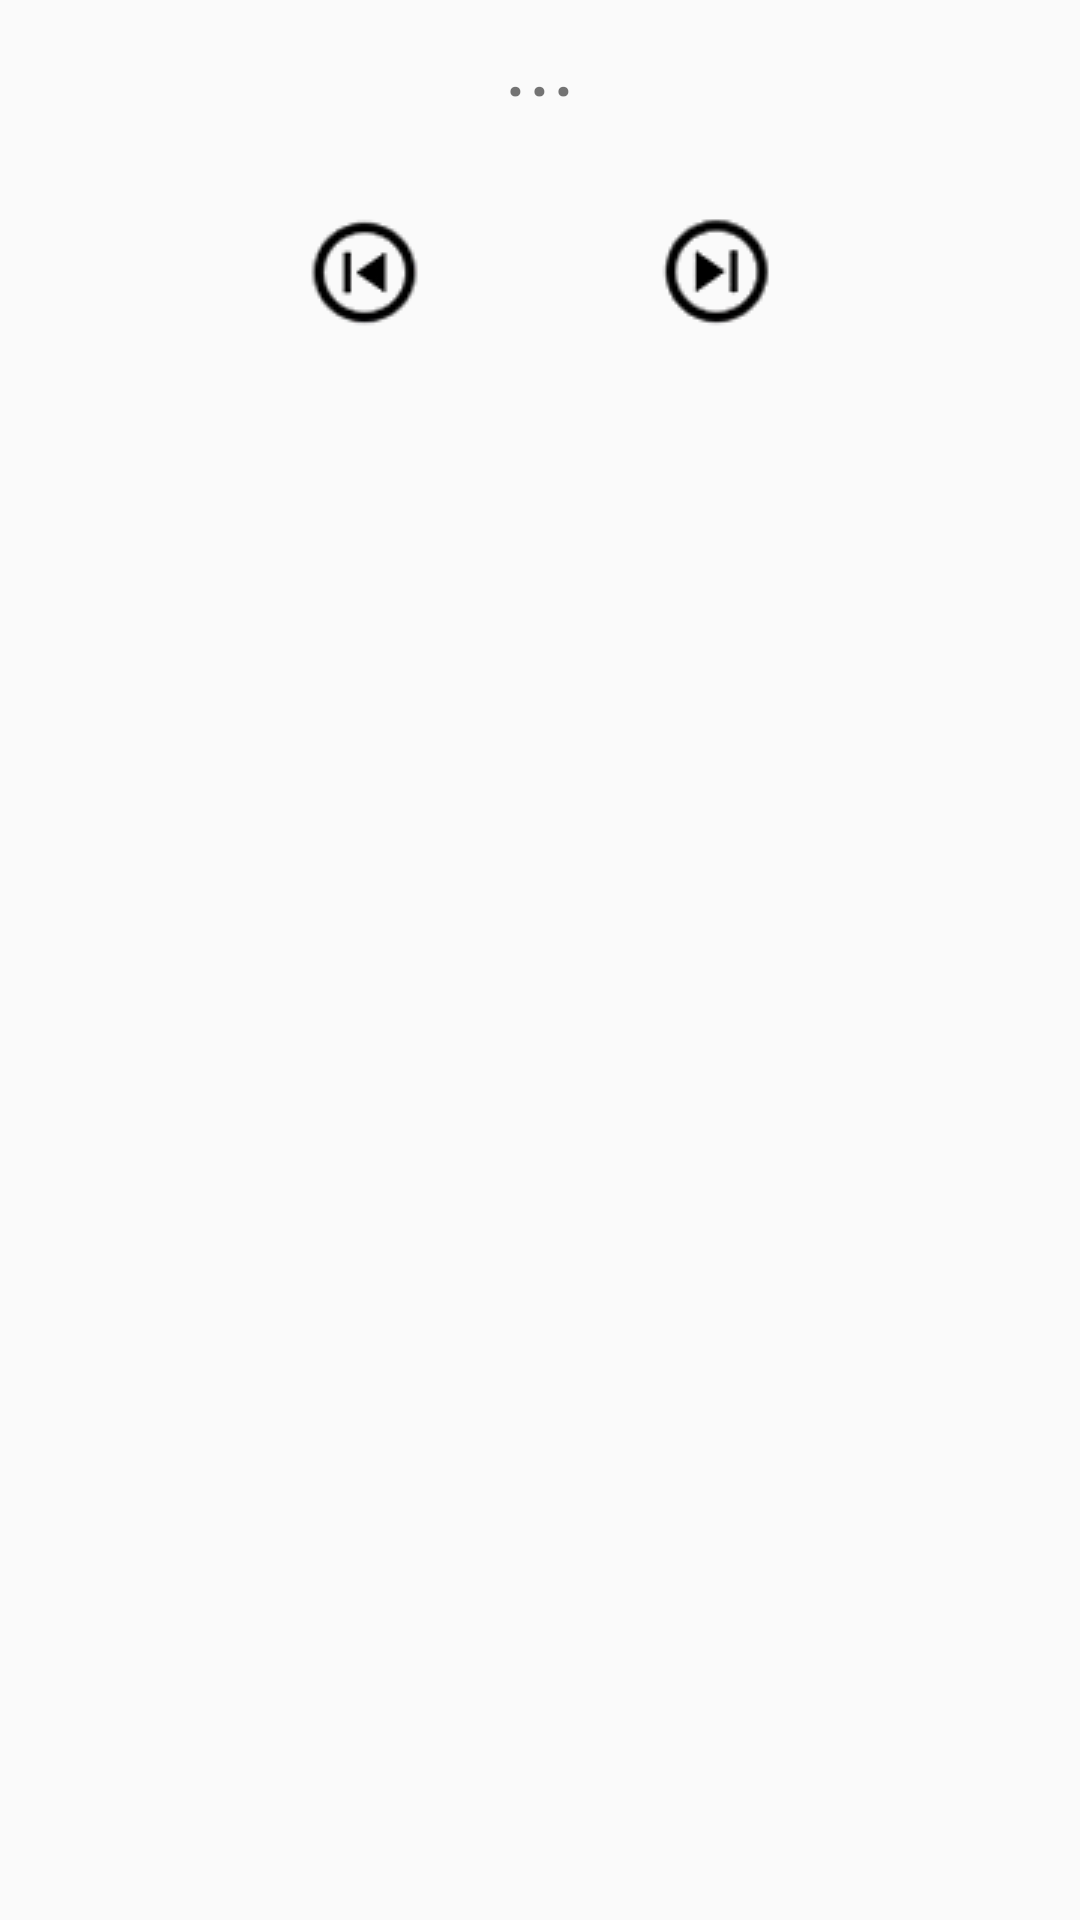

Icon click points for this 1080px x 1920px phone screenshot, format point (x, y):
next: point (716, 271)
prev: point (364, 272)
